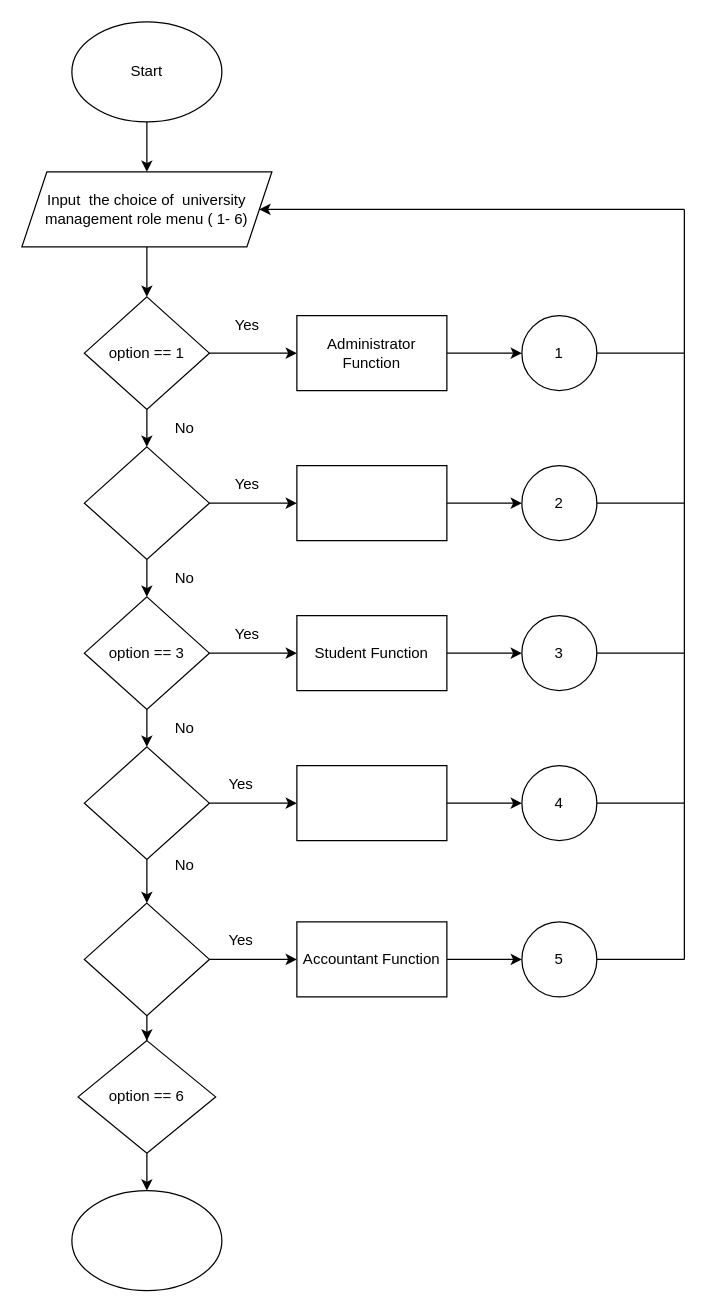
Some shapes in this 716 by 1313 pixel diagram are drawn without their labels. The shapes that lost their labels are listed below. From the top down, each one's box as (x1, y1, x2, y2) in pixels, then its label:
(83, 446, 209, 559): option == 2
(296, 464, 447, 541): Lecturer Function
(83, 746, 209, 859): option == 4
(296, 764, 447, 841): Registrar Function
(83, 902, 209, 1016): option == 5
(71, 1189, 222, 1291): Stop
